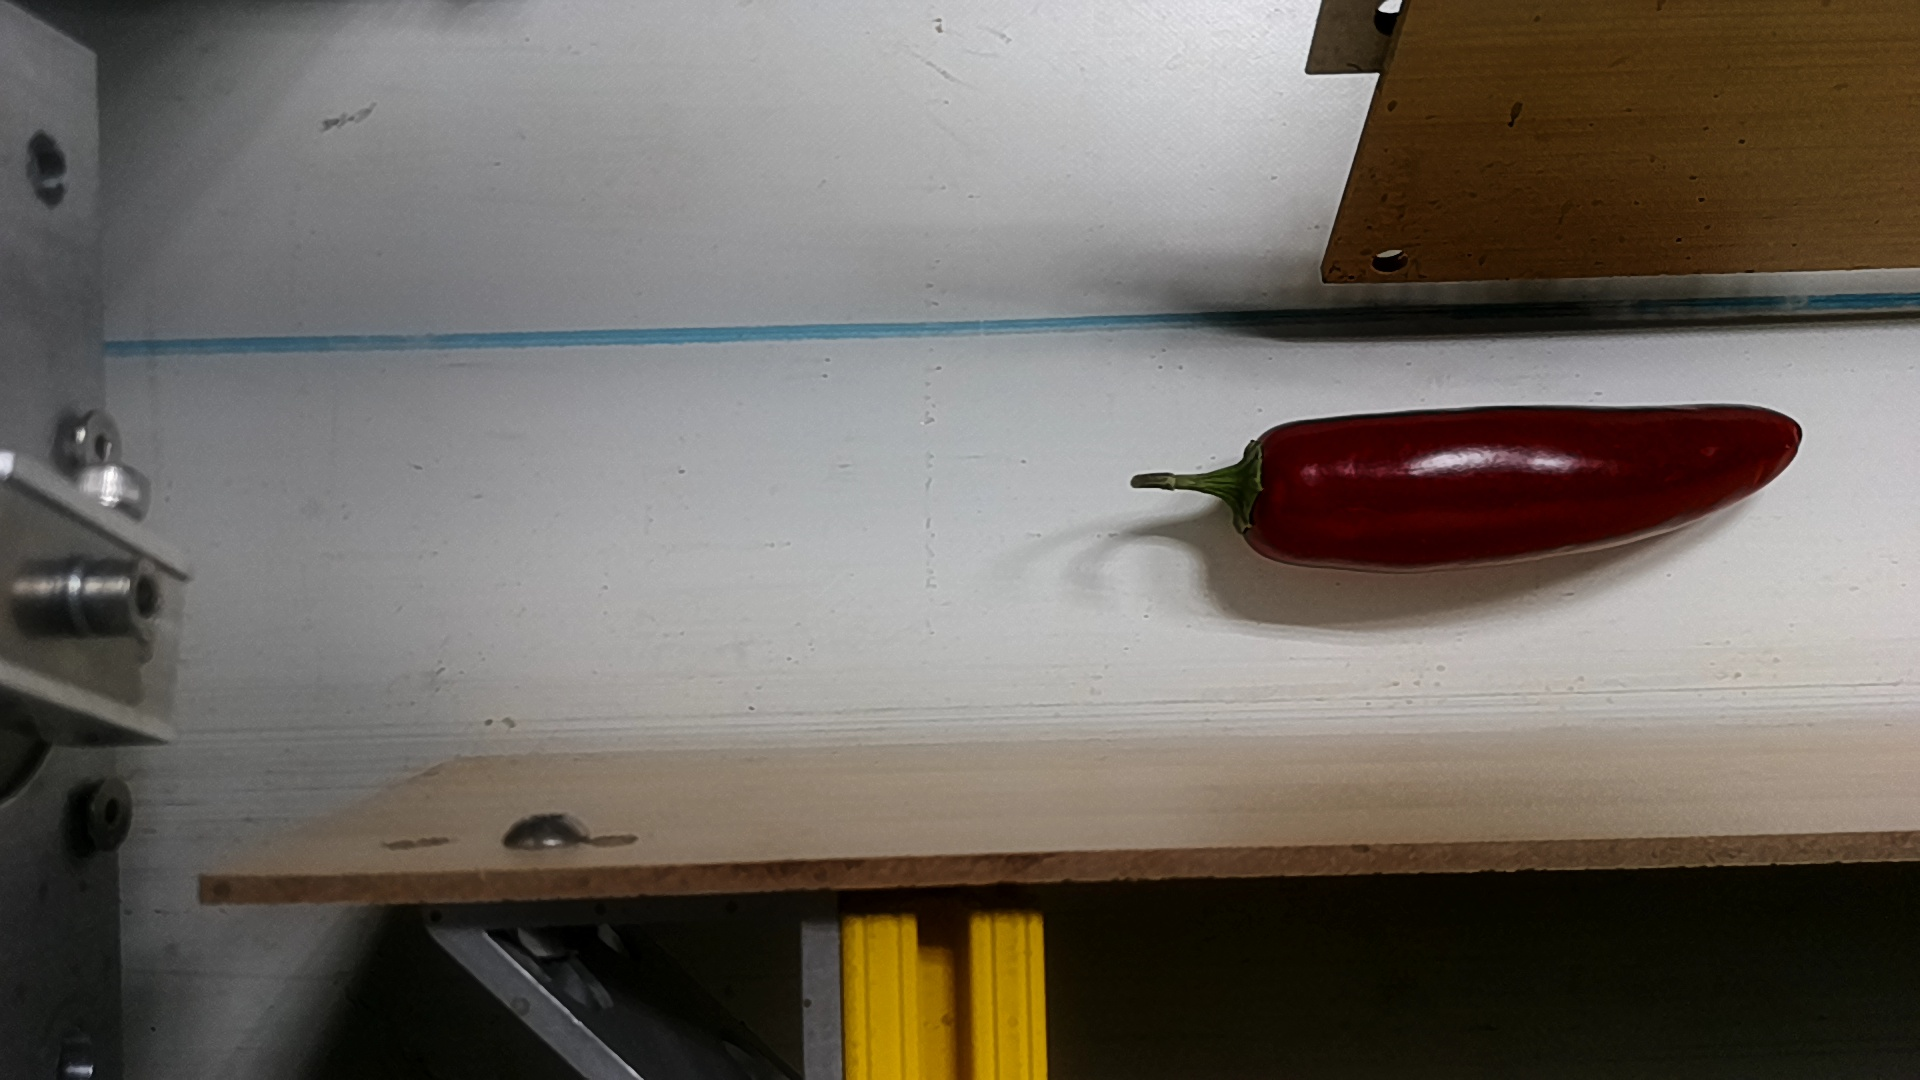Cut Point: (1197, 419, 1317, 574)
